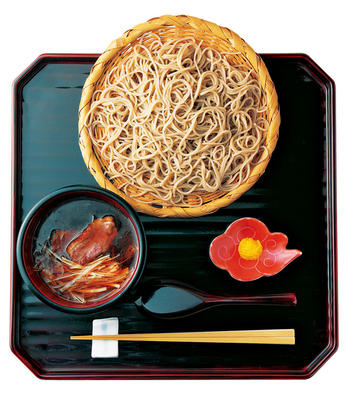Soba: (88, 36, 277, 208)
